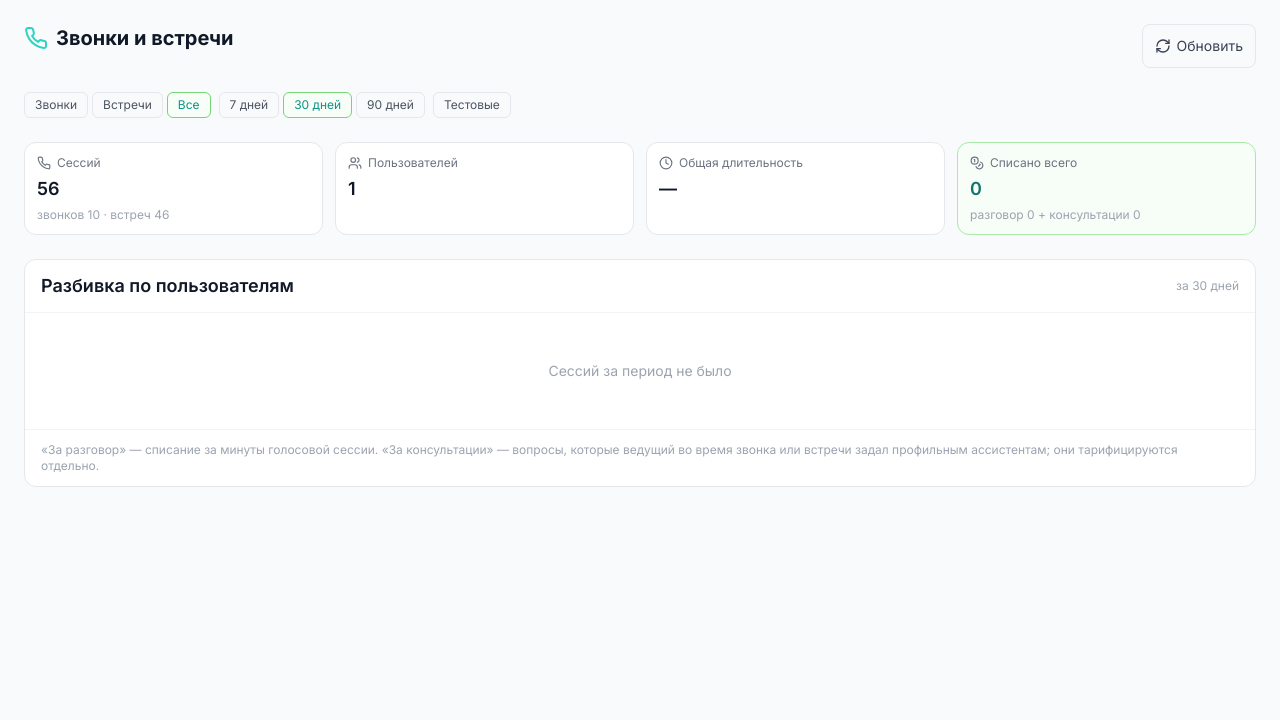
Test: AdminCallsView › выбранная площадка остаётся на экране с нулём, когда за период по ней ничего
Click the button "Встречи" at x=127, y=105, box [92,92,163,118]
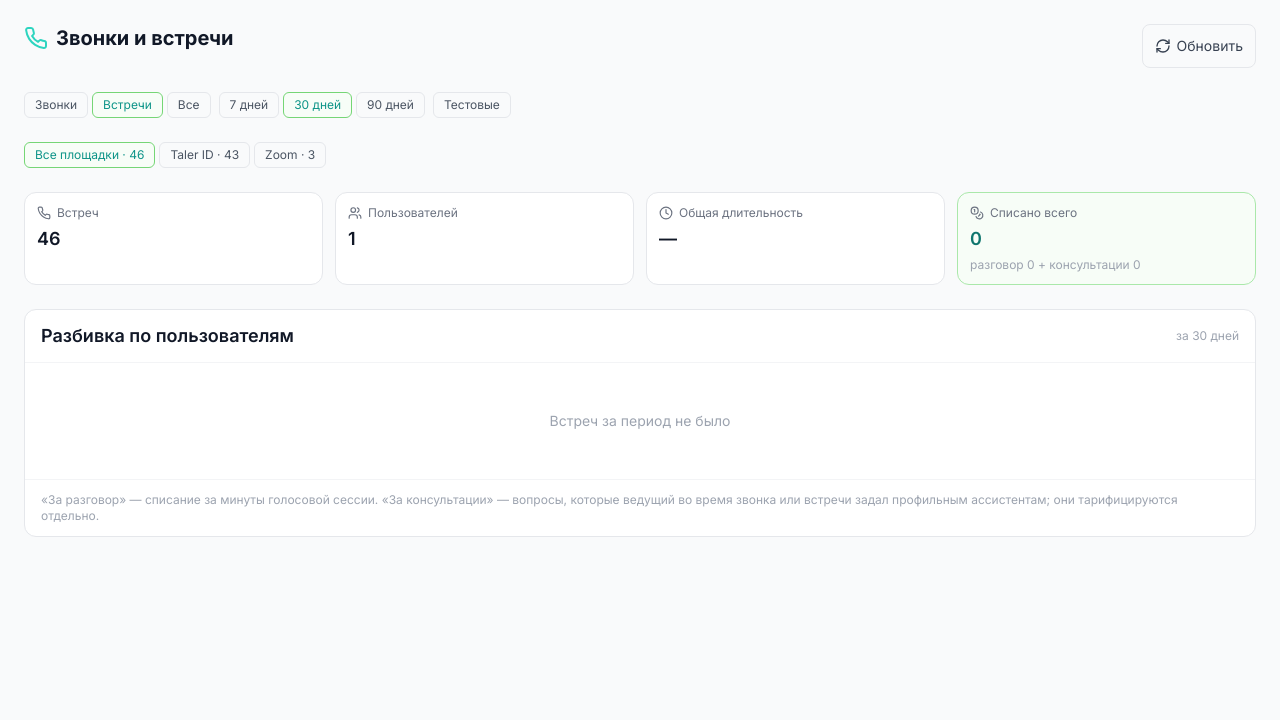
Click the button "Zoom · 3" at x=290, y=155, box [254,142,326,168]
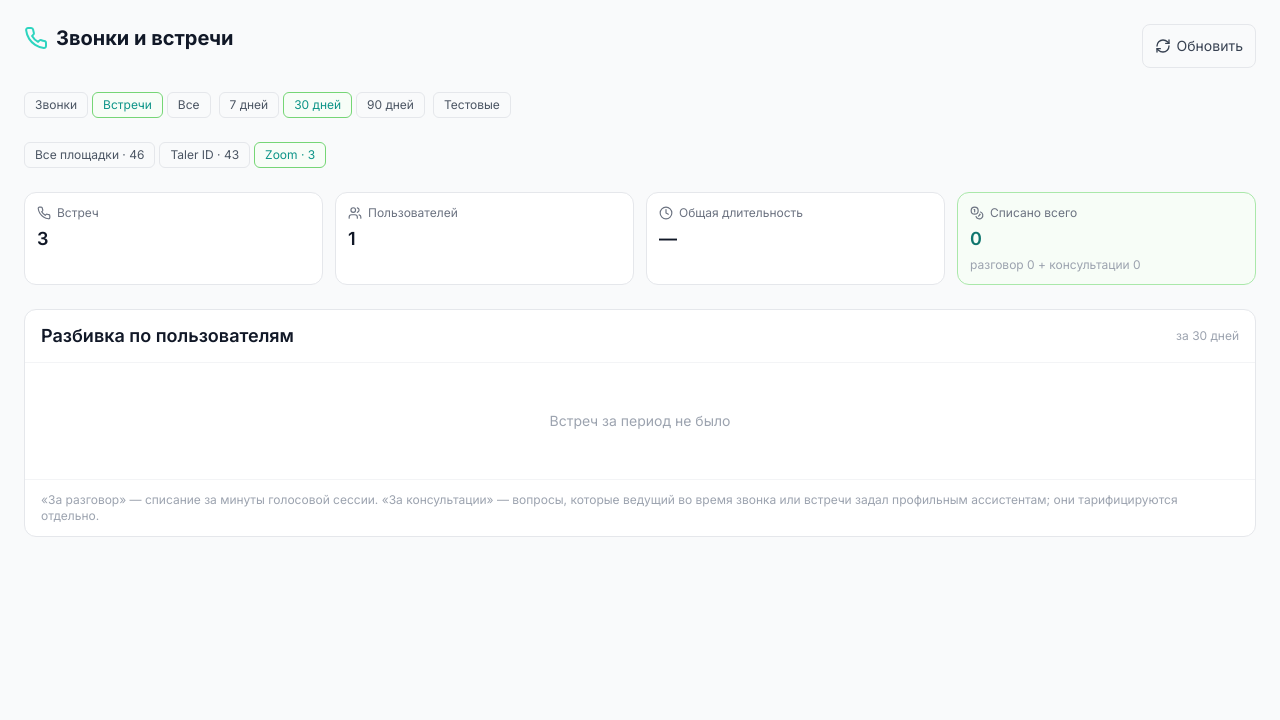
Click the button "7 дней" at x=249, y=105, box [218,92,279,118]
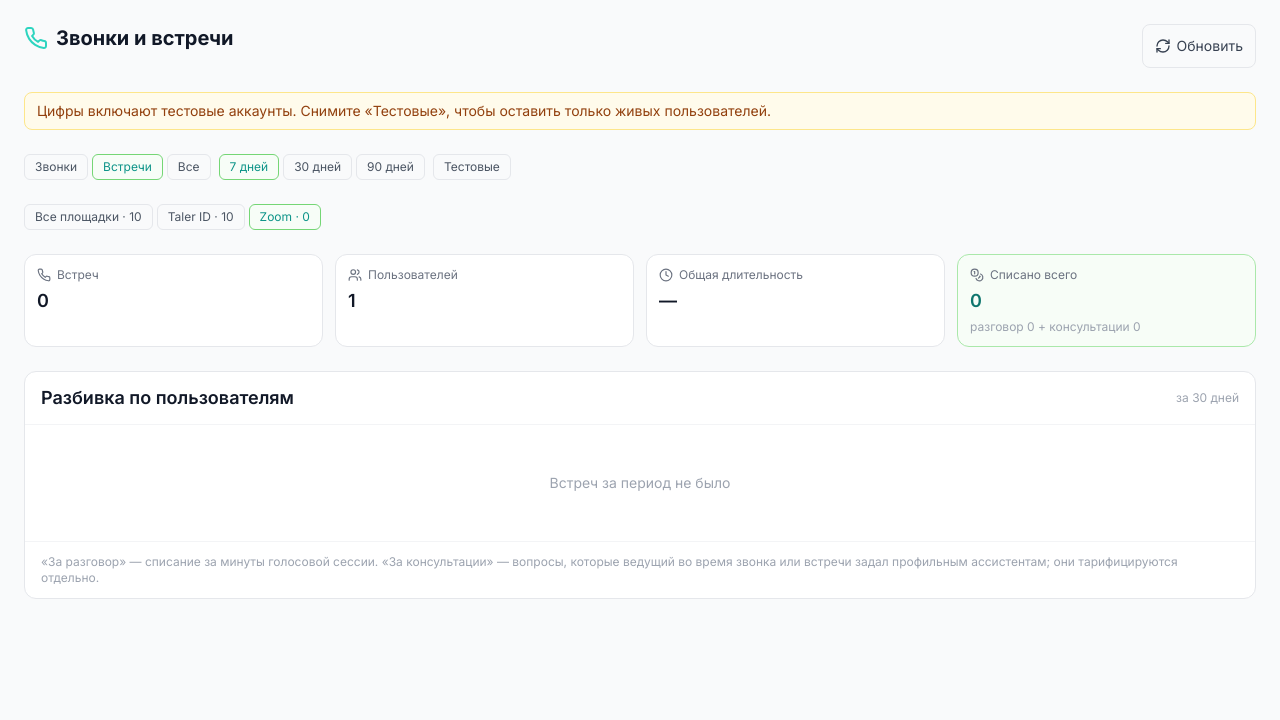
Result: the button "Zoom · 0" is shown at [249,204,321,230]
